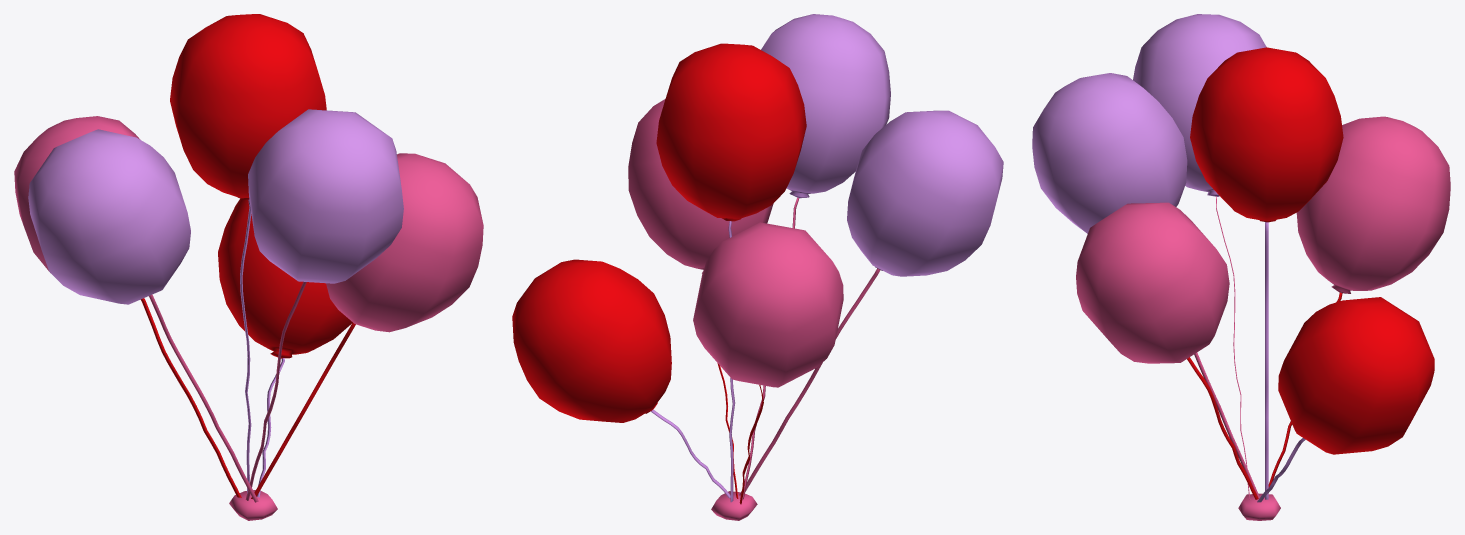
The model's file is balloonbunch.fbx.
3 renders of one model, left to right at view 1: azimuth 30°, elevation 25°; view 2: azimuth 150°, elevation 25°; view 3: azimuth 270°, elevation 25°, orthographic. The views are drawn at different scales.
Parts seen in each view (by area): view 1: balloonbunch; view 2: balloonbunch; view 3: balloonbunch.
Boxes of the visible parts, bbox=[...] form: balloonbunch: bbox=[14, 14, 483, 520]; balloonbunch: bbox=[512, 14, 1003, 520]; balloonbunch: bbox=[1032, 14, 1450, 520].
Size of the model in its own units: 535 by 608 by 499.
